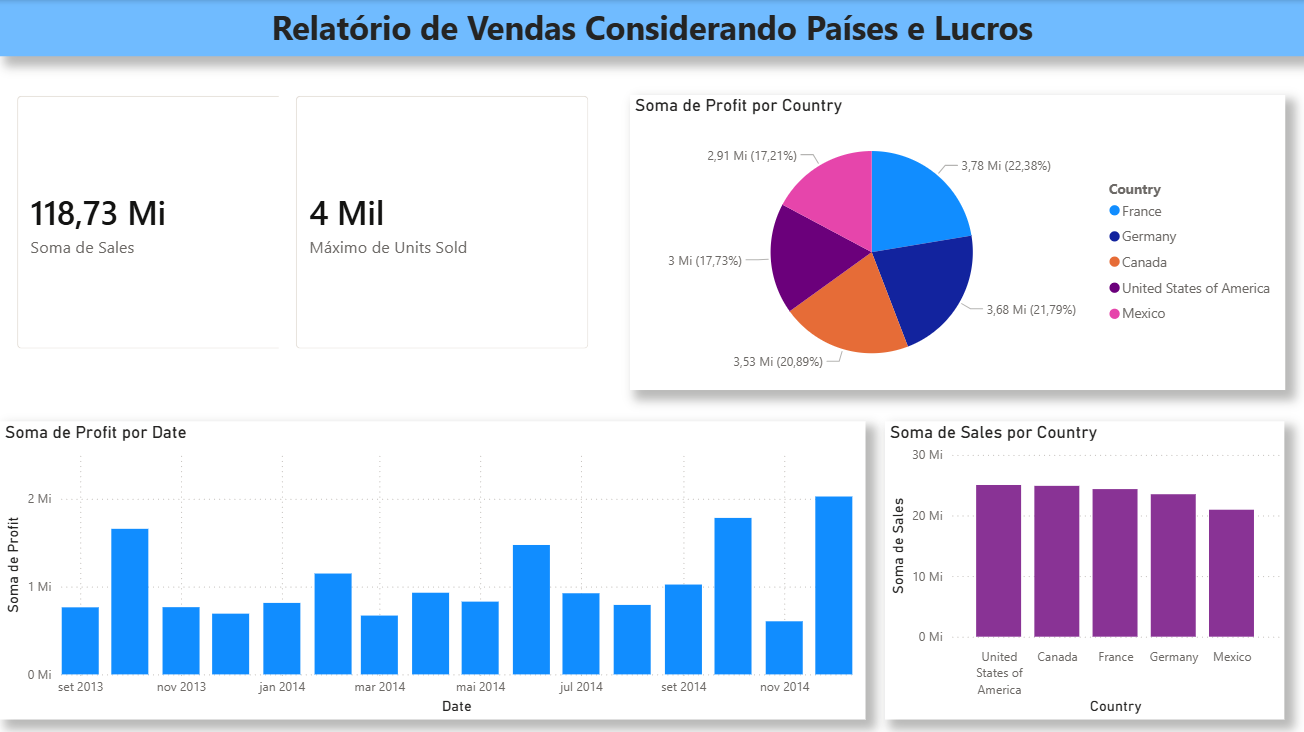

The page's visual inventory and layout, read from the dashboard file:
{"tool":"powerbi","page":{"name":"Página 2","canvas":[1280,720],"ordinal":1},"visuals":[{"type":"textbox","box":[0,0,1280.3,55.2],"z":0},{"type":"cardVisual","fields":{"Data":["Sum(financials.Sales)"]},"box":[0,77.3,303.5,282.8],"z":1000},{"type":"cardVisual","fields":{"Data":["Max(financials.Units Sold)"]},"box":[273.2,77.3,321.4,282.8],"z":2000},{"type":"pieChart","fields":{"Y":["Sum(financials.Profit)"],"Category":["financials.Country"]},"box":[618.1,93.8,642.9,289.7],"z":3000},{"type":"clusteredColumnChart","fields":{"Y":["Sum(financials.Profit)"],"Category":["financials.Date"]},"box":[0,413.9,849.8,292.5],"z":4000},{"type":"clusteredColumnChart","fields":{"Category":["financials.Country"],"Y":["Sum(financials.Sales)"]},"box":[869.2,413.9,391.8,292.5],"z":5000}]}

Visuals, with their boxes in screenshot pixels (x1, y1, x2, y2), scaled from the page's 1280x720 canvas onto the 1304x732 screenshot:
textbox: bbox=(0, 0, 1303, 56)
cardVisual - Sum(financials.Sales): bbox=(0, 79, 309, 366)
cardVisual - Max(financials.Units Sold): bbox=(278, 79, 606, 366)
pieChart - Sum(financials.Profit) x financials.Country: bbox=(630, 95, 1285, 390)
clusteredColumnChart - Sum(financials.Profit) x financials.Date: bbox=(0, 421, 866, 718)
clusteredColumnChart - financials.Country x Sum(financials.Sales): bbox=(885, 421, 1285, 718)
